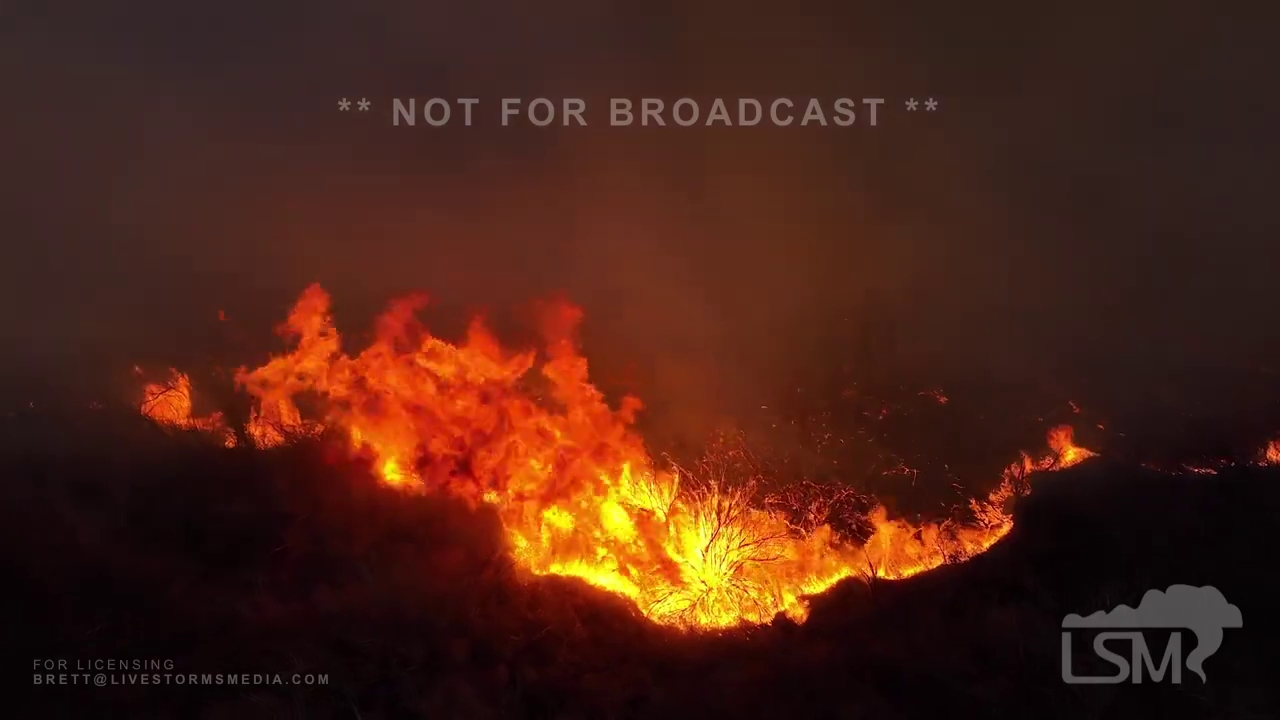forest_fire: (236, 284, 1093, 627), (143, 371, 234, 445)
